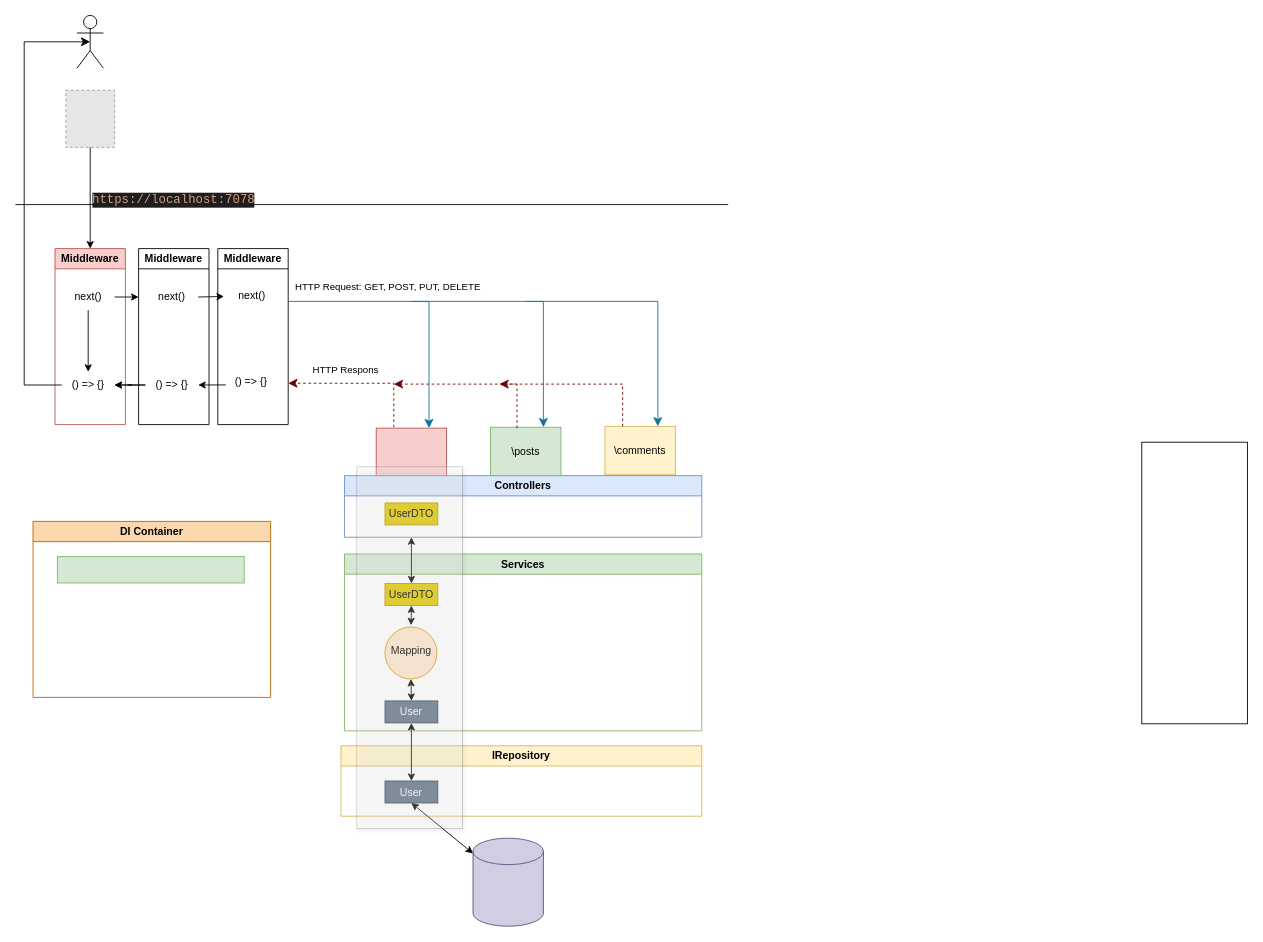
Image size: 1263x942. Some labels were removed from this diagram. Grey dashed boxes stand in for pictures. Here are the shapes that lost their labels. From the top down, the centre of each, then its label:
At point (89, 41): "Client".
At point (411, 452): "\users".
At point (150, 569): "AddSingleton<IPersonRepository, PersonMySqlDatabase>()".
At point (507, 881): "Database".
